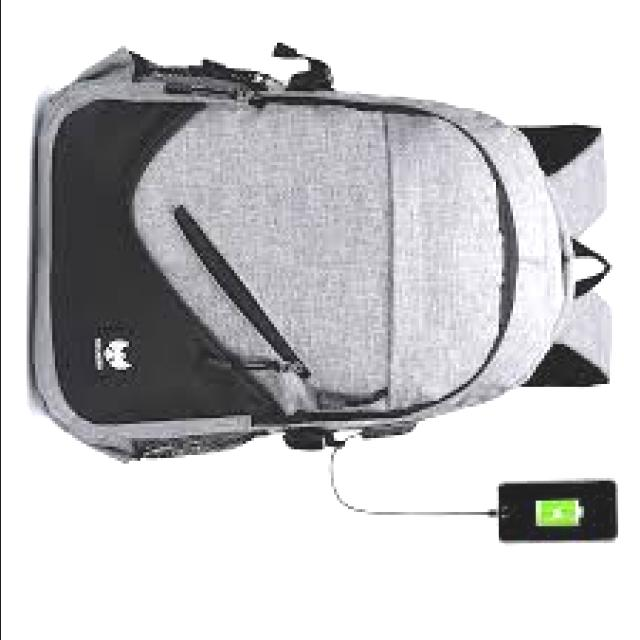backpack: (33, 41, 616, 467)
